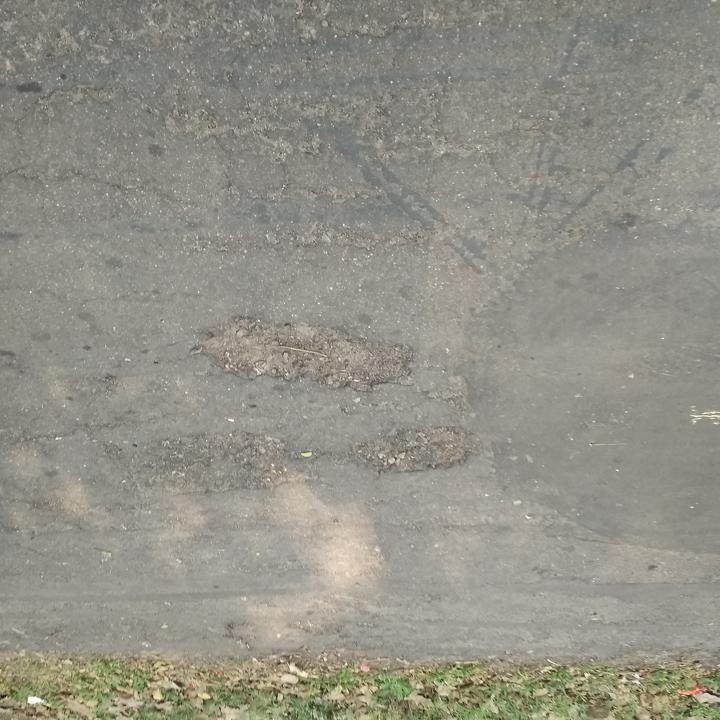pothole: (188, 314, 418, 398), (139, 428, 300, 498), (351, 421, 474, 480)
